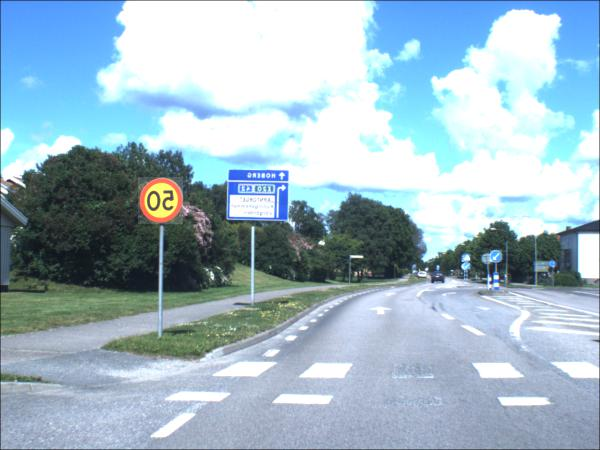50_SIGN: (138, 179, 184, 227)
PASS_RIGHT_SIDE: (490, 251, 503, 264), (464, 264, 471, 271)
PEDESTRIAN_CROSSING: (464, 256, 471, 263)
